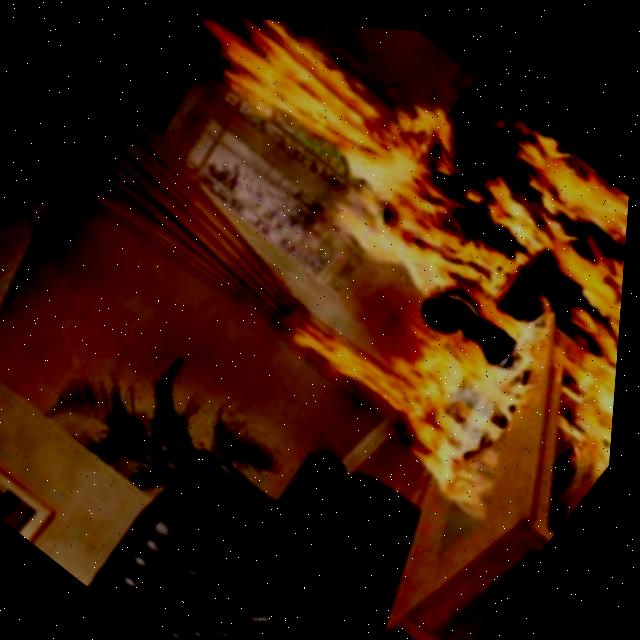Fire: (224, 32, 639, 552), (168, 10, 414, 183)
